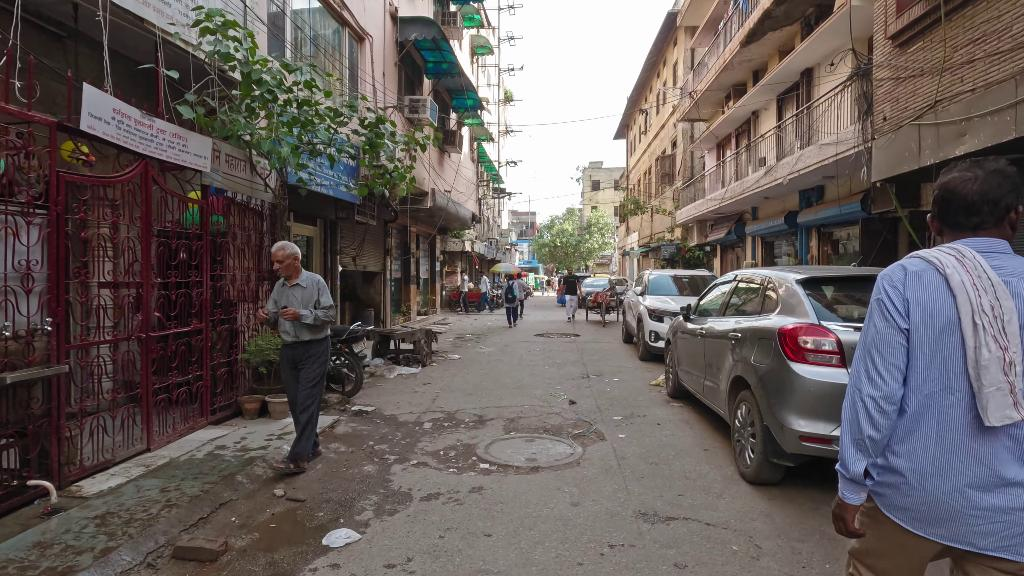garbage: (325, 527, 365, 547)
